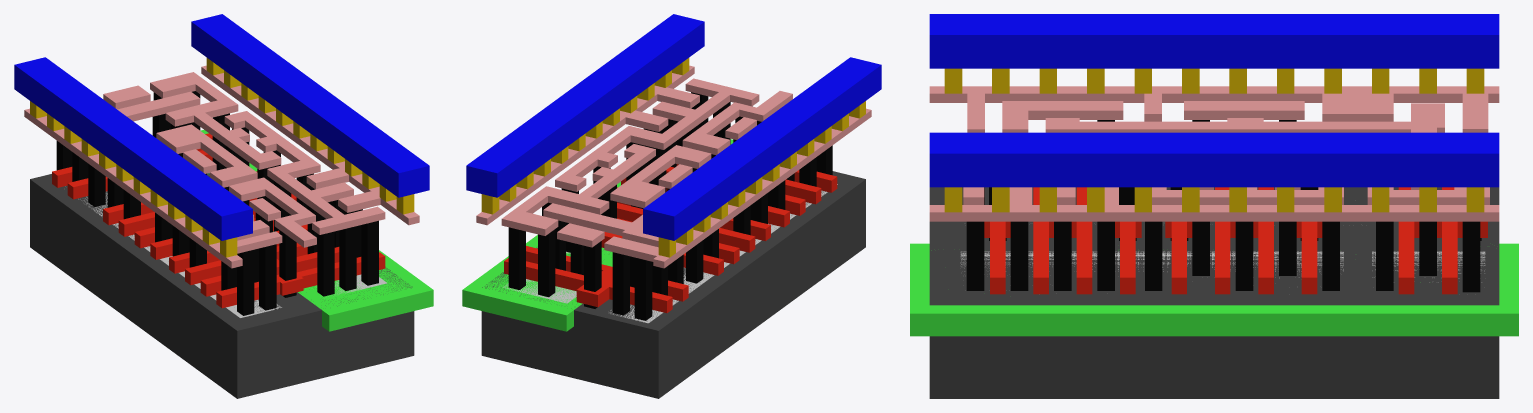
The model's file is sky130_fd_sc_hd__a221oi_2.obj.
The picture shows the model from 3 angles, left to right: view 1: azimuth 30°, elevation 25°; view 2: azimuth 150°, elevation 25°; view 3: azimuth 270°, elevation 25°; orthographic projection. The views are drawn at different scales.
Parts seen in each view (by area): view 1: subs, metal1, li, licon, poly, nwell, mcon, diff; view 2: subs, metal1, li, licon, poly, mcon, nwell, diff, tap; view 3: metal1, subs, li, nwell, licon, poly, mcon, tap.
Part boxes in pixels (bbox=[...]): subs: bbox=[30, 173, 414, 398]; metal1: bbox=[14, 14, 429, 240]; li: bbox=[24, 65, 419, 268]; licon: bbox=[56, 91, 378, 315]; poly: bbox=[52, 133, 385, 308]; nwell: bbox=[200, 130, 433, 331]; mcon: bbox=[30, 58, 414, 257]; diff: bbox=[65, 186, 281, 317]; subs: bbox=[481, 171, 865, 398]; metal1: bbox=[466, 14, 881, 240]; li: bbox=[476, 65, 871, 268]; licon: bbox=[508, 92, 832, 320]; poly: bbox=[504, 164, 837, 313]; mcon: bbox=[481, 58, 865, 257]; nwell: bbox=[462, 139, 733, 331]; diff: bbox=[609, 184, 837, 323]; tap: bbox=[503, 251, 576, 303]; metal1: bbox=[929, 14, 1499, 187]; subs: bbox=[929, 187, 1499, 398]; li: bbox=[929, 86, 1499, 221]; nwell: bbox=[910, 243, 1518, 336]; licon: bbox=[966, 120, 1481, 292]; poly: bbox=[984, 187, 1487, 294]; mcon: bbox=[944, 68, 1484, 212]; tap: bbox=[960, 251, 1485, 282].
Bounding box in the file's own units: 3.2 × 2.74 × 5.9.
